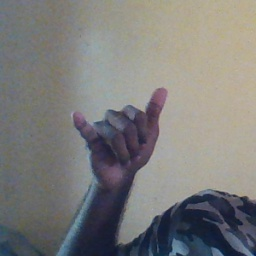J: (69, 73, 172, 183)
